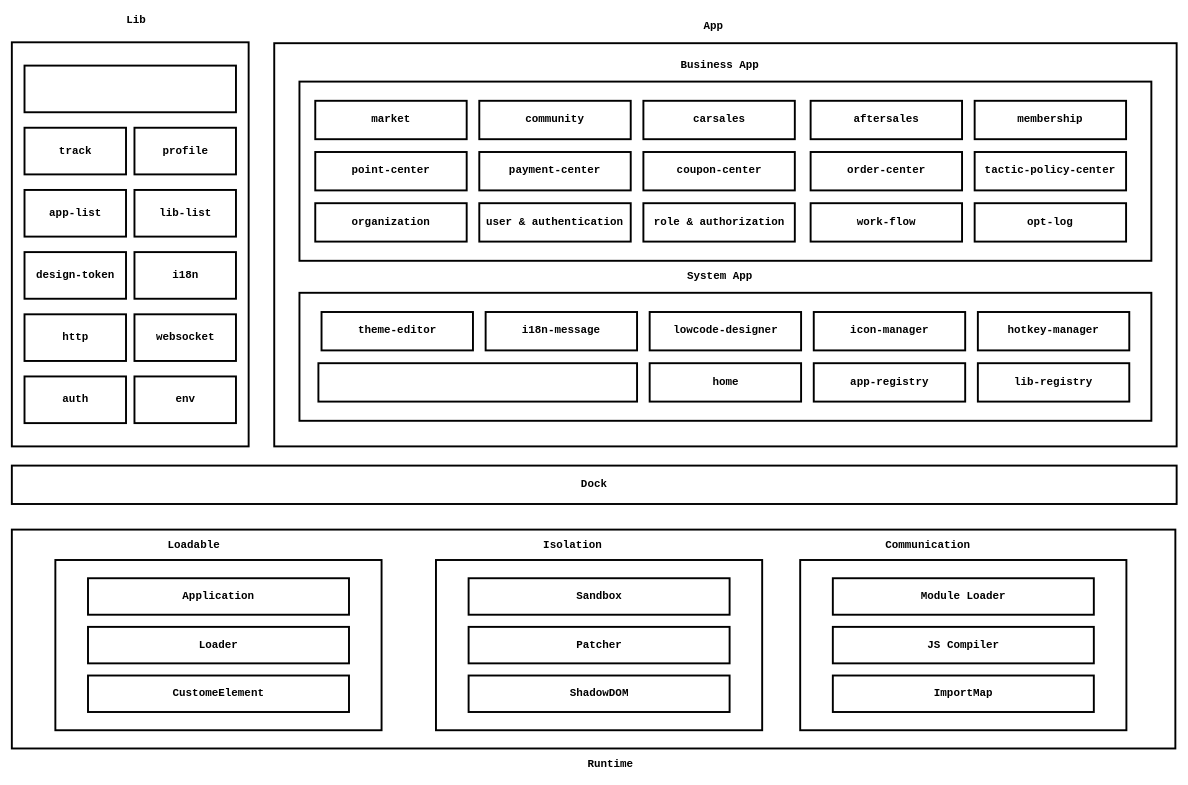
This 1188x785 diagram has some shape labels left out. Here are the shapes that lost their labels. From the top down, the centre of each, then its label:
At pixel 130 88: "tab".
At pixel 477 382: "frame".
